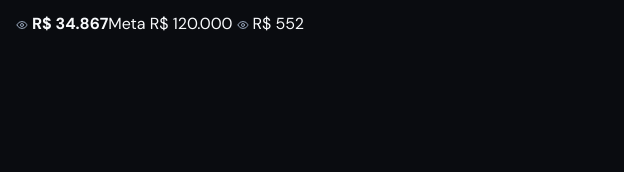
it: unmounts the value and related details, preserves other indicators, and restores on click
This screenshot has width=624, height=172.
Step 1. Click the button named "Ocultar faturamento" → (22, 25), box [12,15,32,35]
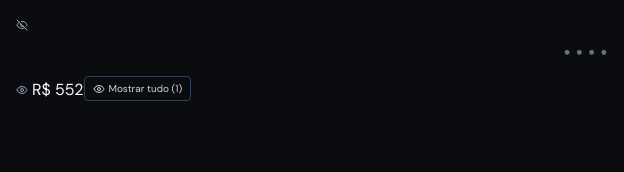
Expected: the text "R$ 552" is shown, [32,78,84,100]
Expected: the text "R$ 34.867" is gone
Expected: the text "Meta R$ 120.000" is gone
Step 2. Click the button named "Mostrar faturamento" → (22, 25), box [12,15,32,35]
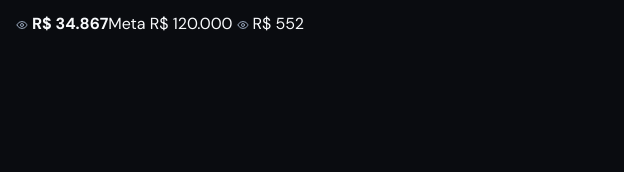
Expected: the text "R$ 34.867" is shown, [32,13,108,34]
